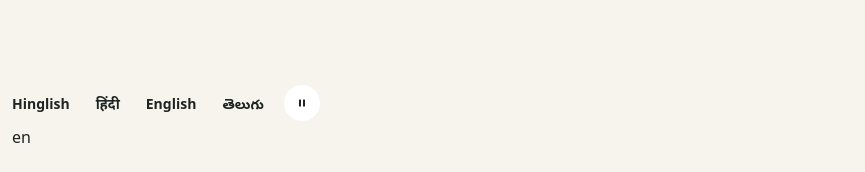
Test case: HeroHeadline › clicking a language pins the headline on it and switches the UI language
The width and height of the screenshot is (865, 172).
Click the button "తెలుగు".
click(243, 103)  # box [210, 81, 276, 125]
Wait 11460 ms
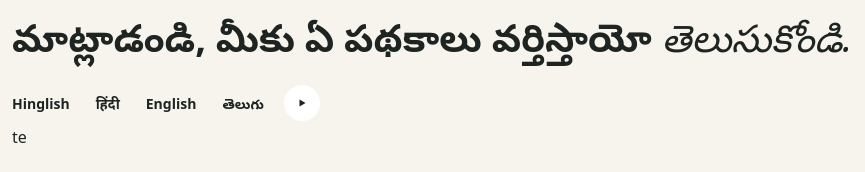
Expected: the text with test id "ui-lang" reads "te", [12, 126, 27, 148]
